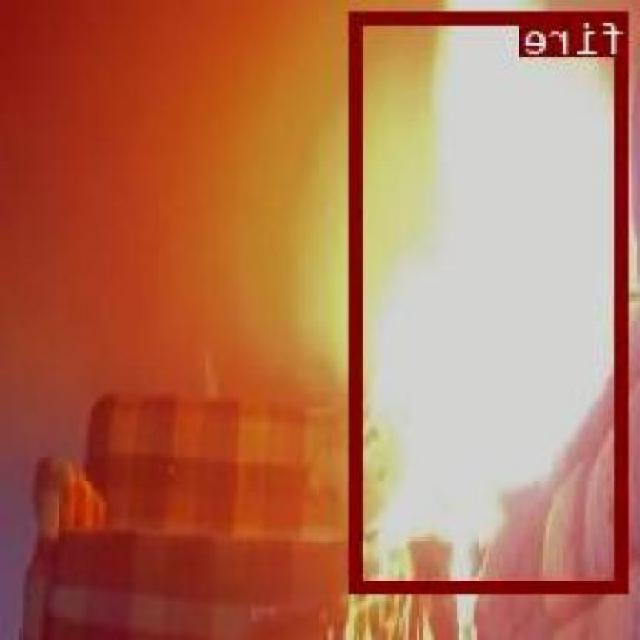Fire: (352, 9, 630, 592)
